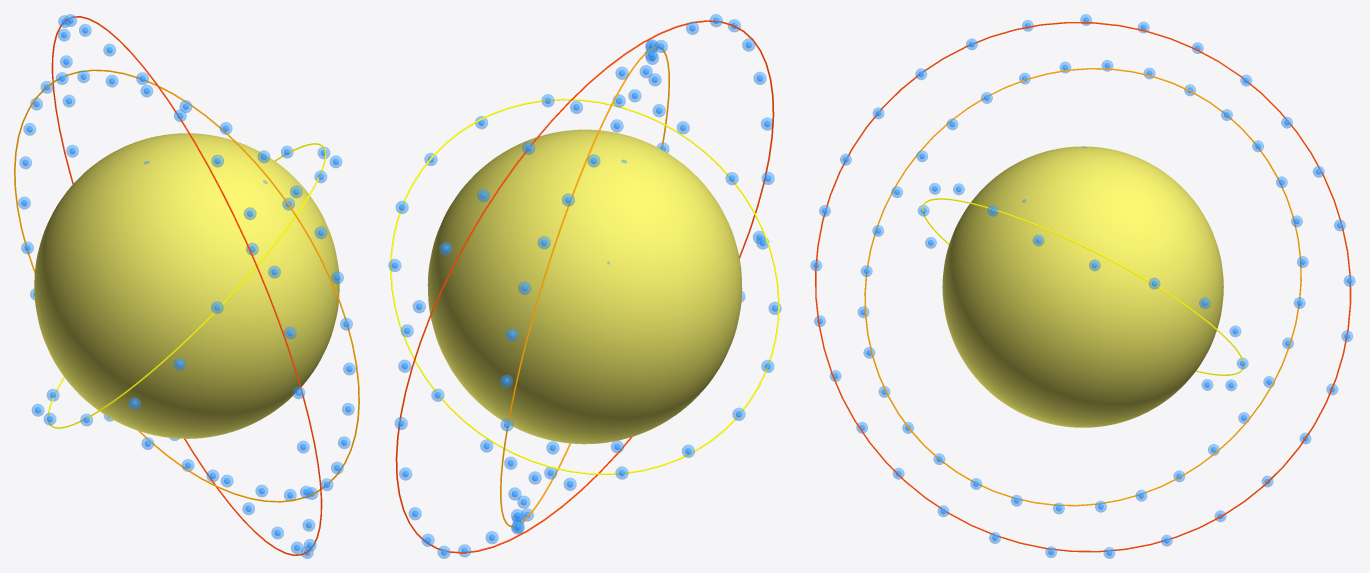
3 renders of one model, left to right at view 1: azimuth 30°, elevation 25°; view 2: azimuth 150°, elevation 25°; view 3: azimuth 270°, elevation 25°, orthographic. The views are drawn at different scales.
Parts seen in each view (by area): view 1: Ac, object 61, object 126, object 24; view 2: Ac, object 126, object 24, object 61; view 3: Ac, object 126, object 61, object 24.
Part boxes in pixels (x1=…): Ac: x1=34, y1=133, x2=339, y2=438; object 61: x1=14, y1=69, x2=359, y2=502; object 126: x1=51, y1=16, x2=322, y2=555; object 24: x1=47, y1=143, x2=326, y2=428; Ac: x1=427, y1=129, x2=742, y2=444; object 126: x1=395, y1=20, x2=774, y2=553; object 24: x1=390, y1=98, x2=779, y2=474; object 61: x1=500, y1=46, x2=669, y2=527; Ac: x1=942, y1=146, x2=1223, y2=427; object 126: x1=815, y1=22, x2=1351, y2=552; object 61: x1=864, y1=68, x2=1301, y2=506; object 24: x1=922, y1=198, x2=1244, y2=375.
Size of the model in its own units: 4.23 by 7.03 by 7.29.
